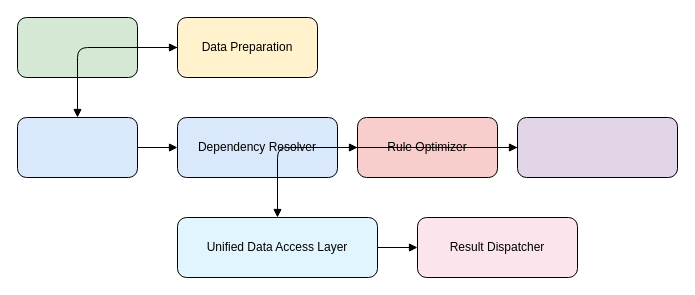
This 695x295 diagram has some shape labels left out. The centre of each missing label's shape, as x and y in pixels:
Rule Builder: (77,47)
Rule Parser: (77,147)
Rule Short-Circuiting: (597,147)
